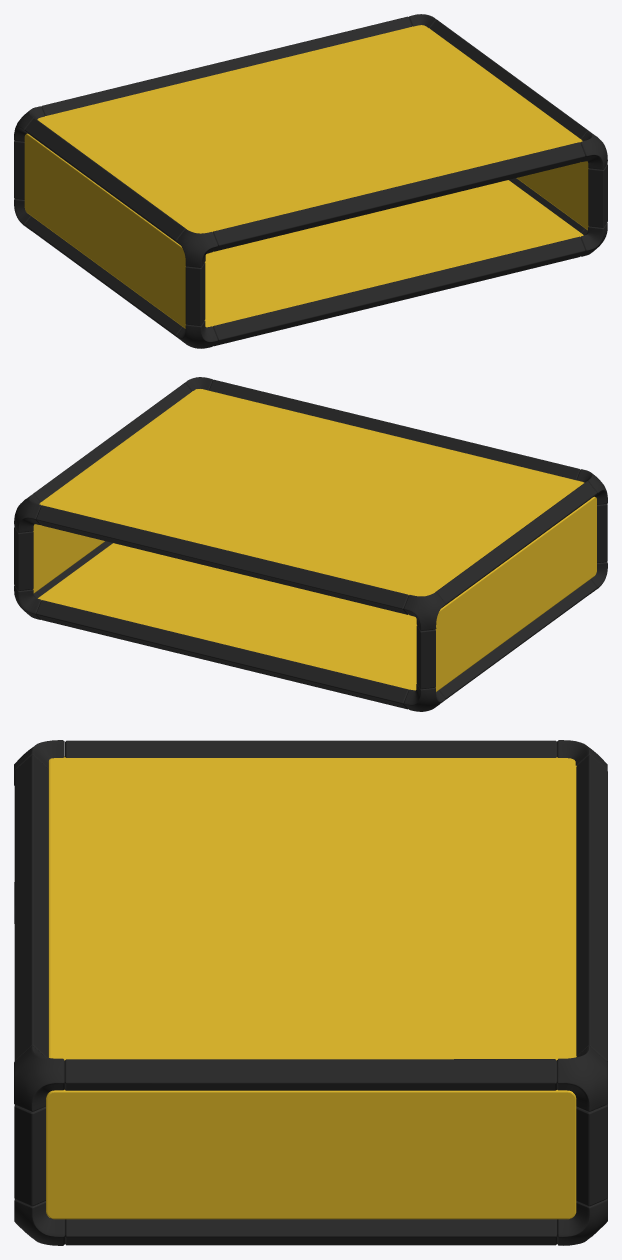
3 views of the same model, one above another, from view 1: azimuth 30°, elevation 25°; view 2: azimuth 150°, elevation 25°; view 3: azimuth 270°, elevation 25° (orthographic). The views are drawn at different scales.
Visible parts, largest first — view 1: 523x374x79; view 2: 523x374x79; view 3: 523x374x79.
Boxes of the visible parts, <box> form: 523x374x79: <box>14,14,607,348</box>; 523x374x79: <box>14,377,607,711</box>; 523x374x79: <box>14,740,607,1245</box>.
Size of the model in its own units: 0.6007 by 0.1567 by 0.4514.
